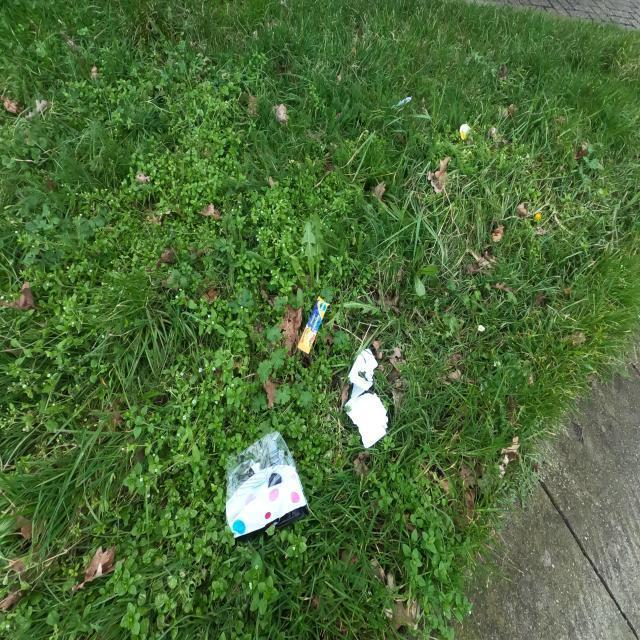Plastic: (226, 430, 310, 540), (297, 295, 329, 355)
